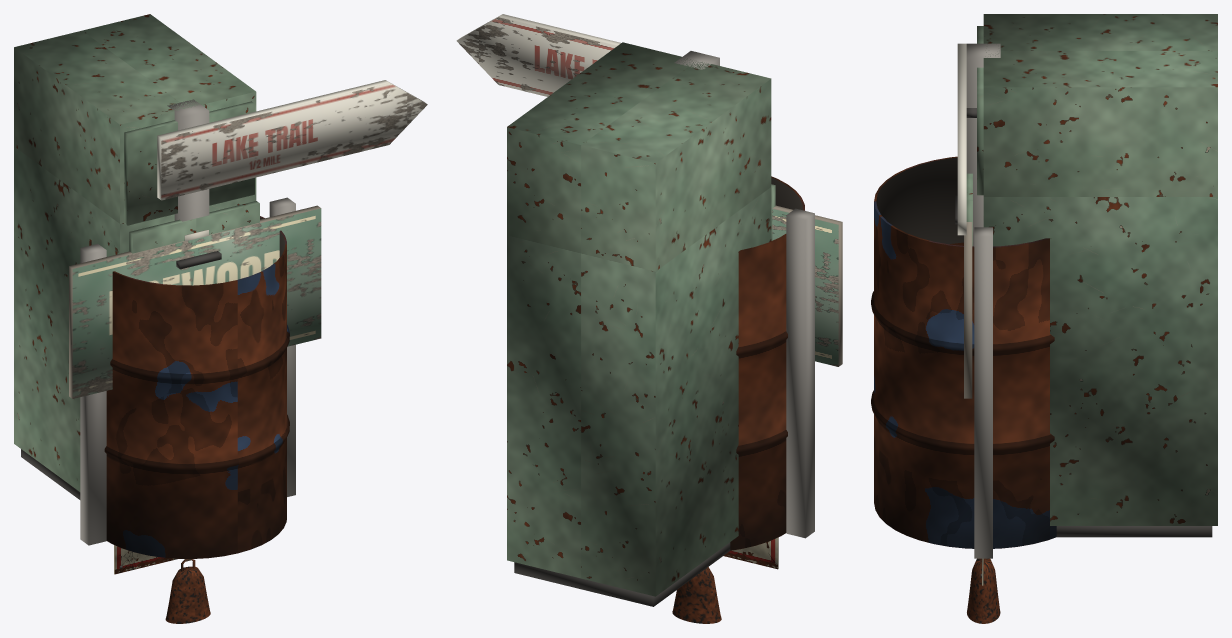
File: weathered.glb
3 views of the same model, side by side, from view 1: azimuth 30°, elevation 25°; view 2: azimuth 150°, elevation 25°; view 3: azimuth 270°, elevation 25° (orthographic). The views are drawn at different scales.
Visible parts, largest first — view 1: FilingCabinet, BurnBarrel, Sign_Firewood, Sign_Arrow, Cowbell_Rust, Sign_Tin; view 2: FilingCabinet, BurnBarrel, Sign_Firewood, Sign_Arrow, Cowbell_Rust, Sign_Tin; view 3: FilingCabinet, BurnBarrel, Sign_Firewood, Sign_Arrow, Cowbell_Rust.
Part boxes in pixels (<box>): FilingCabinet: <box>14,14,259,499</box>; BurnBarrel: <box>89,216,289,558</box>; Sign_Firewood: <box>69,197,321,545</box>; Sign_Arrow: <box>157,80,427,221</box>; Cowbell_Rust: <box>165,559,210,623</box>; Sign_Tin: <box>114,545,177,574</box>; FilingCabinet: <box>507,42,775,606</box>; BurnBarrel: <box>730,176,804,550</box>; Sign_Firewood: <box>772,205,842,538</box>; Sign_Arrow: <box>456,14,719,96</box>; Cowbell_Rust: <box>672,567,721,623</box>; Sign_Tin: <box>724,537,778,569</box>; FilingCabinet: <box>955,14,1217,537</box>; BurnBarrel: <box>871,156,1056,548</box>; Sign_Firewood: <box>964,222,992,558</box>; Sign_Arrow: <box>957,43,1000,246</box>; Cowbell_Rust: <box>967,558,1000,623</box>.
Bounding box in the file's own units: 1.19 × 1.64 × 0.918.
Materials: 29 (22 with a texture image).
